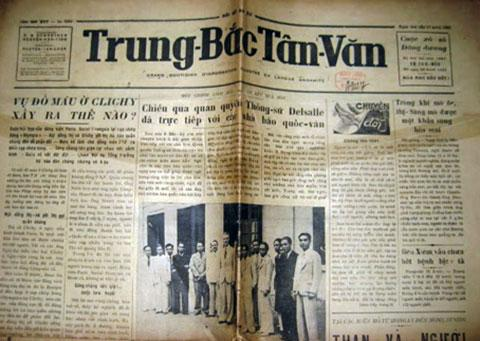paper: (0, 2, 480, 341)
